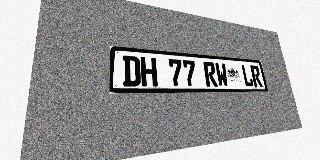7: (168, 59, 184, 87), (182, 60, 198, 87)
D: (123, 55, 141, 86)
H: (140, 57, 158, 87)
L: (241, 64, 254, 87)
R: (203, 62, 218, 87), (250, 65, 263, 87)
W: (215, 62, 229, 87)
